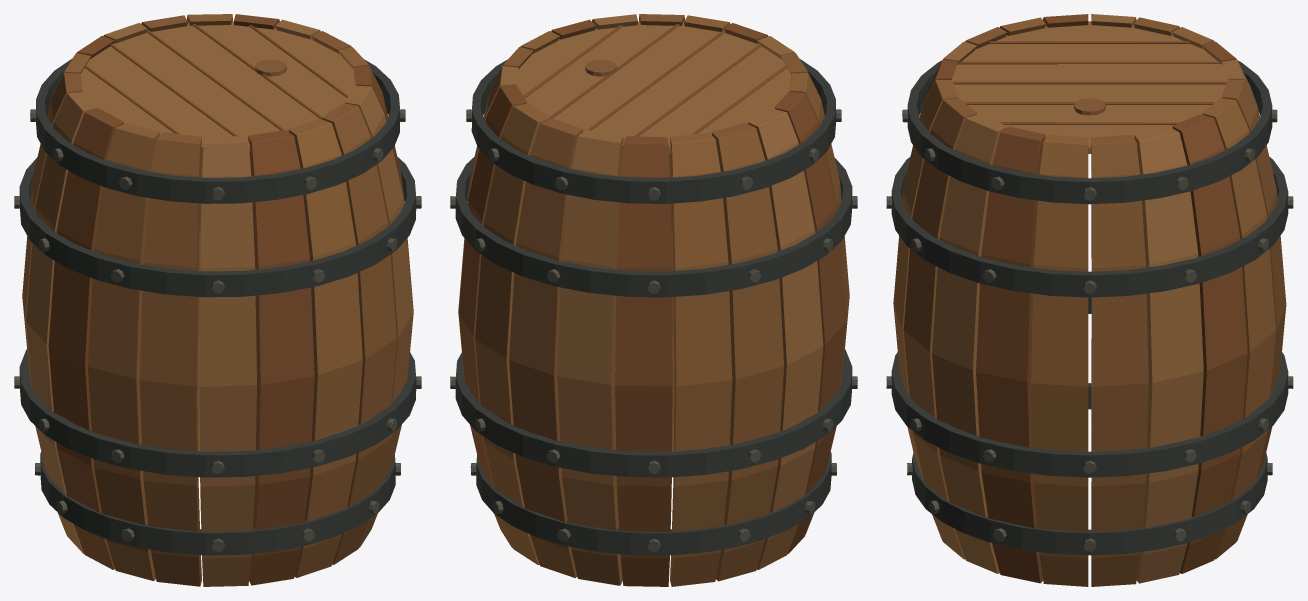
The model's file is oak_wine_barrel.glb.
3 renders of one model, left to right at view 1: azimuth 30°, elevation 25°; view 2: azimuth 150°, elevation 25°; view 3: azimuth 270°, elevation 25°, orthographic.
Parts seen in each view (by area): view 1: Oak_Wine_Barrel; view 2: Oak_Wine_Barrel; view 3: Oak_Wine_Barrel.
Part boxes in pixels (bbox=[...]): Oak_Wine_Barrel: bbox=[14, 14, 421, 586]; Oak_Wine_Barrel: bbox=[450, 14, 857, 586]; Oak_Wine_Barrel: bbox=[886, 14, 1293, 586].
Size of the model in its own units: 1.07 by 1.28 by 1.07.
